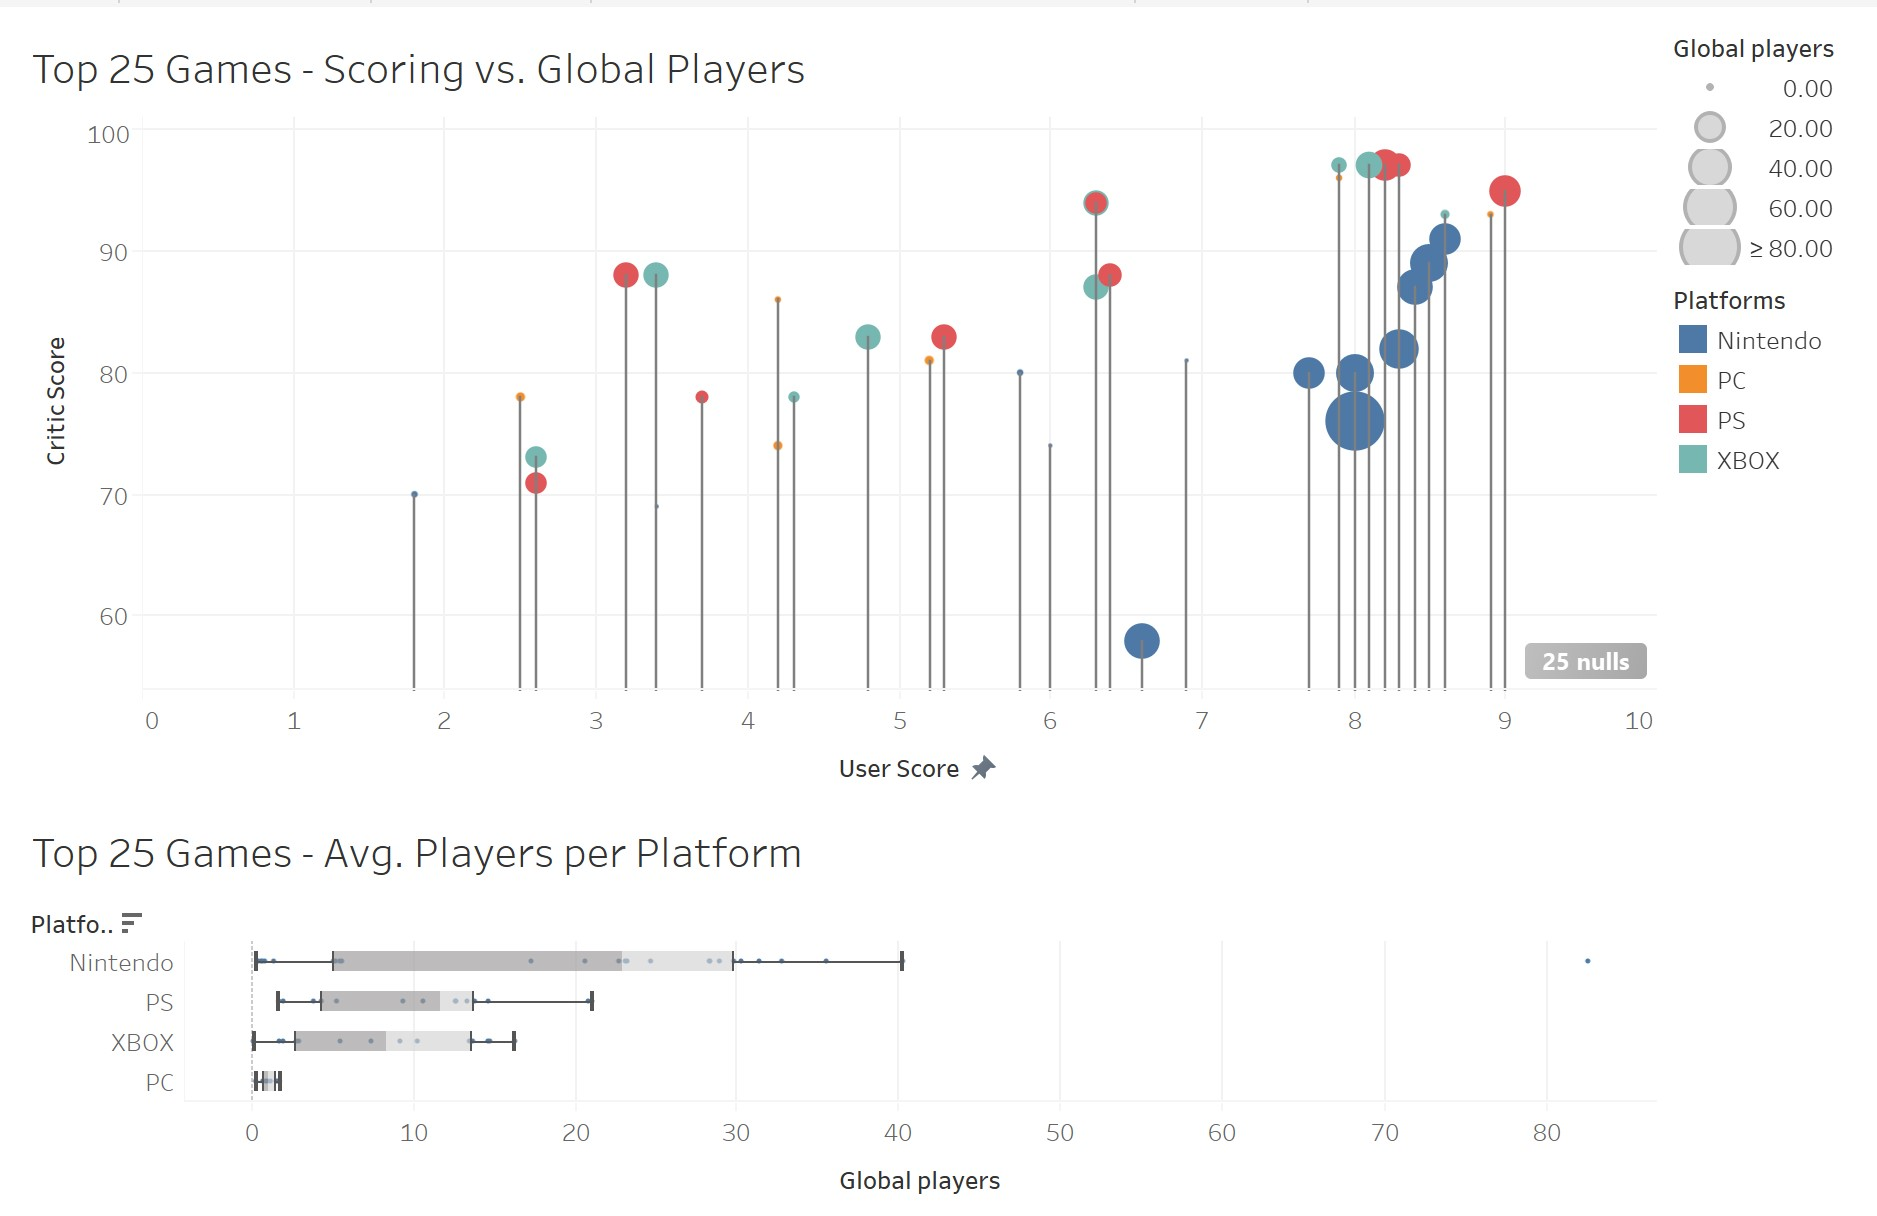

This screenshot's page, from the dashboard's own definition file:
{"tool":"tableau","page":{"name":"Dashboard 2","canvas":[1000,800],"ordinal":0},"visuals":[{"type":"worksheet","title":"lollipop","mark":"Circle","rows":["Critic_Score"],"cols":["User_Score"],"box":[8,8,824.3,392]},{"type":"legend","title":"lollipop","param":"[federated.0qhlmku1pykuu212mynk919usdcn].[none:Global_players:qk]","box":[832.3,8,159.7,126]},{"type":"legend","title":"lollipop","param":"[federated.0qhlmku1pykuu212mynk919usdcn].[Platforms]","box":[832.3,134,159.7,106]},{"type":"worksheet","title":"boxplot","mark":"Circle","cols":["Global_players"],"box":[8,400,824.3,392]}]}

Visuals, with their boxes on the page's 1000x800 design canvas (x1, y1, x2, y2). These are canvas units, not pixel positions in the 1877x1216 screenshot, which may show the page scaled, cropped or inside an application window:
"lollipop" worksheet (Circle marks): bbox(8, 8, 832, 400)
"lollipop" legend: bbox(832, 8, 992, 134)
"lollipop" legend: bbox(832, 134, 992, 240)
"boxplot" worksheet (Circle marks): bbox(8, 400, 832, 792)
